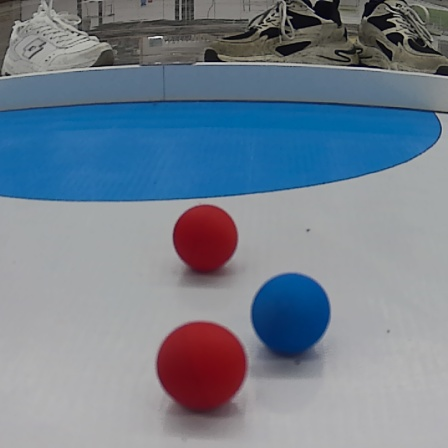blue: (251, 270, 335, 358)
blue_base: (6, 95, 448, 217)
red: (154, 323, 253, 411), (169, 199, 241, 272)
